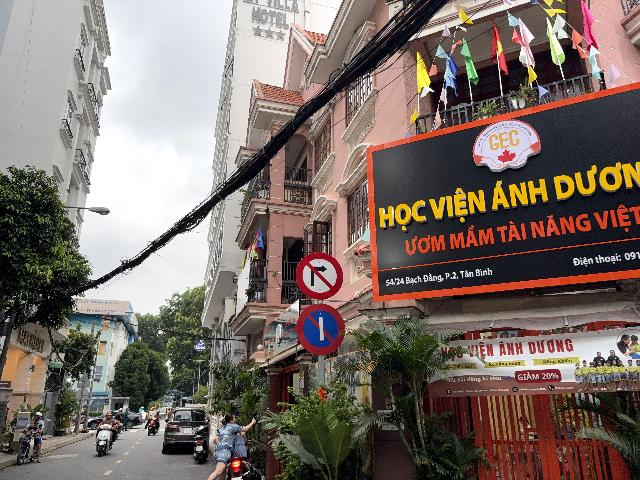cam-do-xe-ngay-le: (295, 303, 346, 355)
cam-re-phai: (296, 252, 344, 300)
